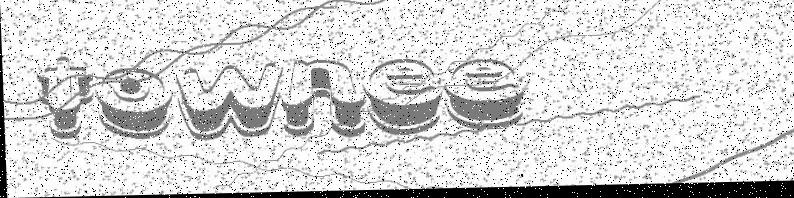e: (440, 55, 526, 136), (362, 55, 442, 140)
n: (284, 59, 367, 137)
o: (96, 64, 171, 139)
t: (34, 51, 93, 141)
w: (173, 63, 283, 143)
